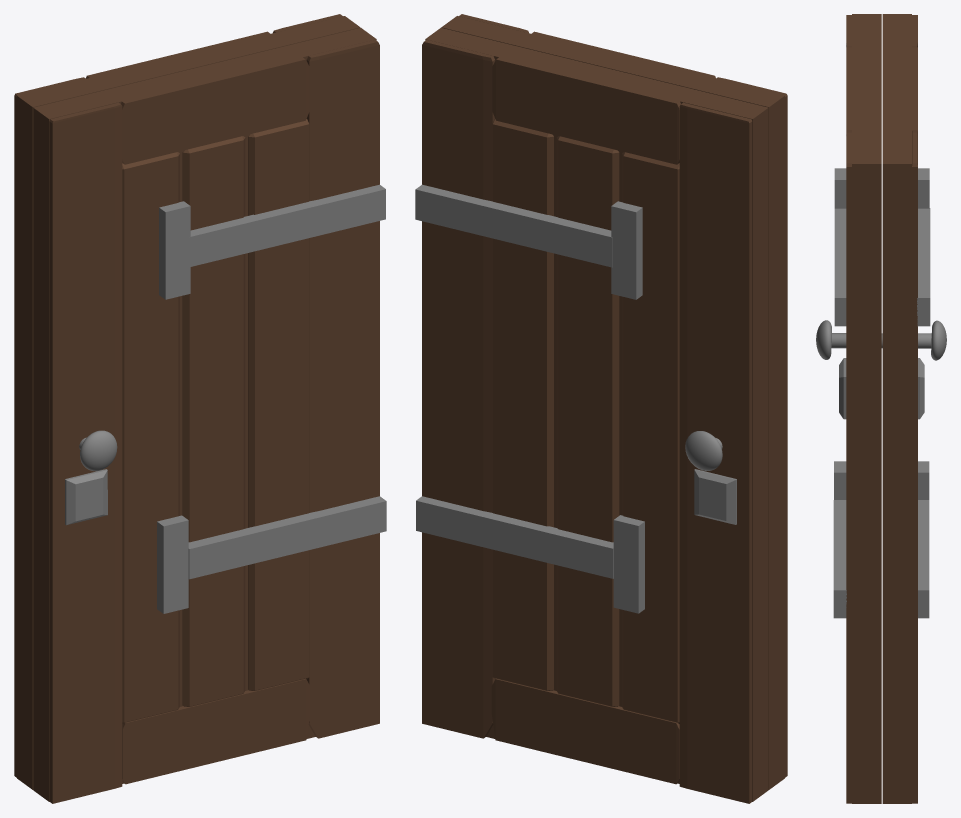
File: wooden door.fbx
3 views of the same model, side by side, from view 1: azimuth 30°, elevation 25°; view 2: azimuth 150°, elevation 25°; view 3: azimuth 270°, elevation 25° (orthographic). The views are drawn at different scales.
Parts seen in each view (by area): view 1: Cube.004, Cube.006, Cube.005, Cube.007, Cube, Cube.016, Cube.017, Cube.013, Cube.014, Cube.010, Sphere.001; view 2: Cube, Cube.002, Cube.001, Cube.003, Cube.004, Cube.008, Cube.009, Cube.012, Cube.011, Cube.010, Sphere; view 3: Cube.004, Cube, Cube.016, Cube.008, Cube.017, Cube.009, Cube.010, Sphere.001, Cube.014, Sphere, Cube.013, Cylinder (+2 smaller).
Part boxes in pixels (x1=…): Cube.004: x1=33, y1=28, x2=379, y2=803; Cube.006: x1=182, y1=136, x2=245, y2=706; Cube.005: x1=248, y1=119, x2=309, y2=690; Cube.007: x1=122, y1=152, x2=179, y2=723; Cube: x1=14, y1=14, x2=360, y2=789; Cube.016: x1=188, y1=496, x2=386, y2=579; Cube.017: x1=189, y1=184, x2=385, y2=267; Cube.013: x1=157, y1=515, x2=188, y2=613; Cube.014: x1=159, y1=201, x2=190, y2=299; Cube.010: x1=65, y1=469, x2=107, y2=525; Sphere.001: x1=80, y1=430, x2=117, y2=471; Cube: x1=422, y1=28, x2=768, y2=803; Cube.002: x1=556, y1=136, x2=619, y2=706; Cube.001: x1=492, y1=119, x2=553, y2=690; Cube.003: x1=622, y1=152, x2=679, y2=723; Cube.004: x1=441, y1=14, x2=787, y2=789; Cube.008: x1=415, y1=184, x2=612, y2=267; Cube.009: x1=416, y1=496, x2=613, y2=578; Cube.012: x1=613, y1=515, x2=644, y2=613; Cube.011: x1=611, y1=201, x2=642, y2=299; Cube.010: x1=694, y1=469, x2=736, y2=524; Sphere: x1=685, y1=431, x2=722, y2=470; Cube.004: x1=846, y1=14, x2=881, y2=803; Cube: x1=882, y1=14, x2=917, y2=803; Cube.016: x1=833, y1=500, x2=846, y2=618; Cube.008: x1=917, y1=208, x2=930, y2=326; Cube.017: x1=834, y1=208, x2=846, y2=326; Cube.009: x1=918, y1=500, x2=929, y2=618; Cube.010: x1=839, y1=358, x2=924, y2=419; Sphere.001: x1=816, y1=320, x2=831, y2=359; Cube.014: x1=834, y1=168, x2=846, y2=208; Sphere: x1=931, y1=320, x2=946, y2=360; Cube.013: x1=834, y1=461, x2=846, y2=499; Cylinder: x1=831, y1=333, x2=931, y2=348.
Size of the model in its own units: 100 by 200 by 37.04.
